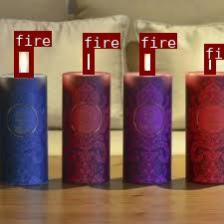fire: (13, 46, 32, 76), (139, 48, 153, 75), (204, 43, 214, 73), (82, 48, 93, 73)
